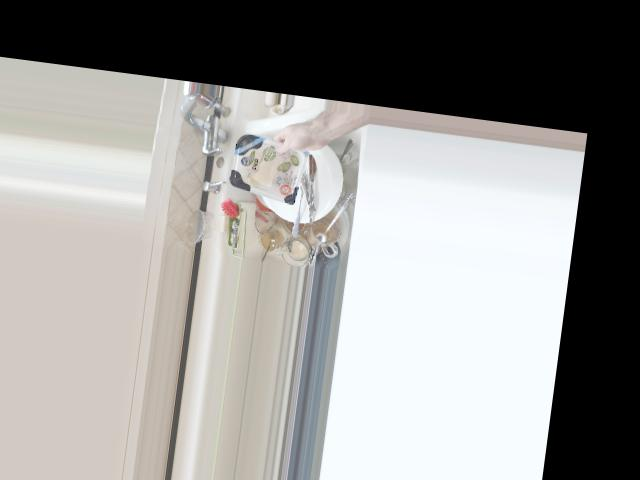cheese: (222, 113, 323, 205)
